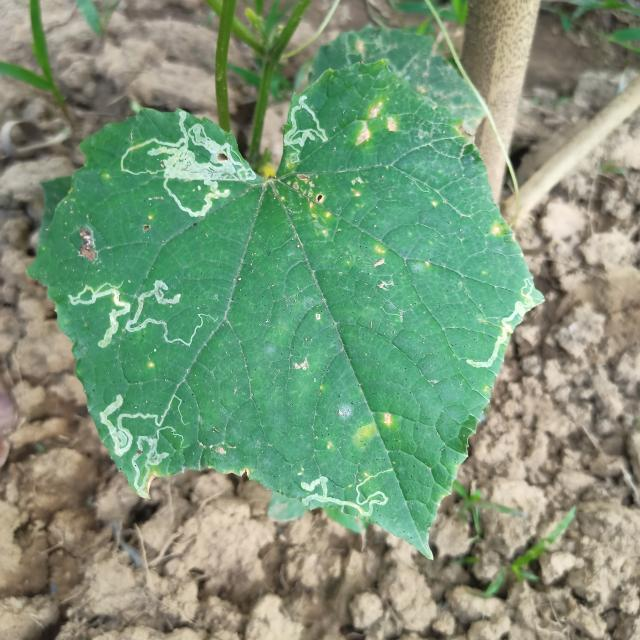disease_cucumber: (289, 170, 338, 248), (353, 98, 401, 152), (351, 408, 398, 452)
